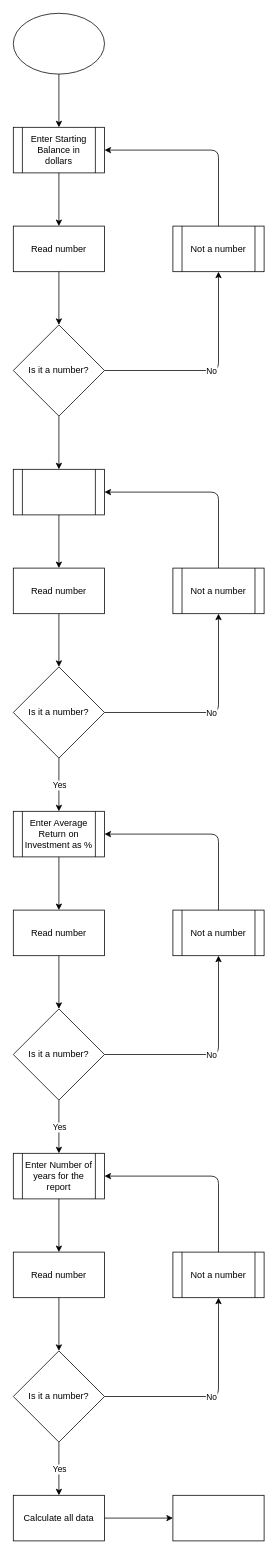
The diagram is 277 pixels wide and 1554 high, and some of its shapes have lost their labels. Each missing label, with the centre of its shape:
"Enter Yearly Contribution in dollars" belongs at (x=58, y=492).
"Output the data" belongs at (x=218, y=1518).
"Start" belongs at (x=58, y=43).
